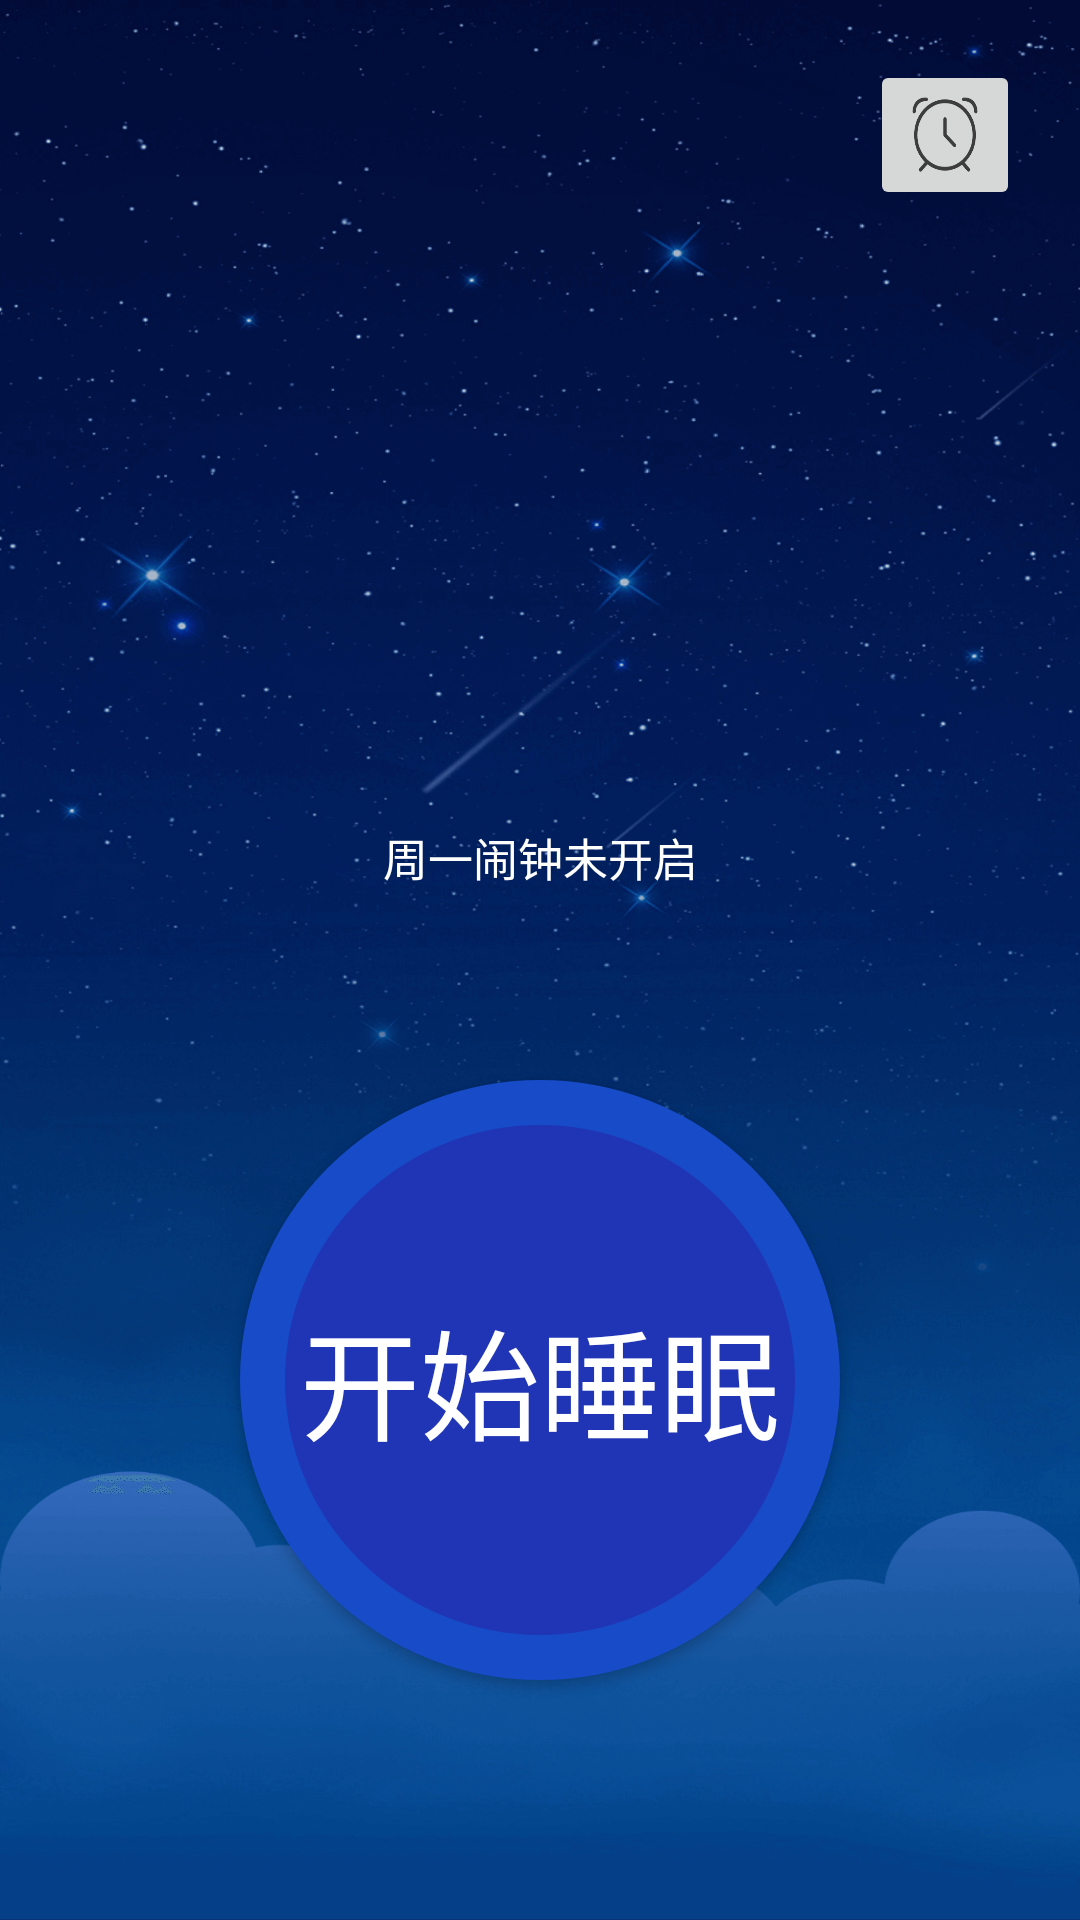

Icons on this 1080×1920 Android screen, each with its box as BBox(x1, y1, x2, y2):
alarm: BBox(872, 73, 1020, 202)
